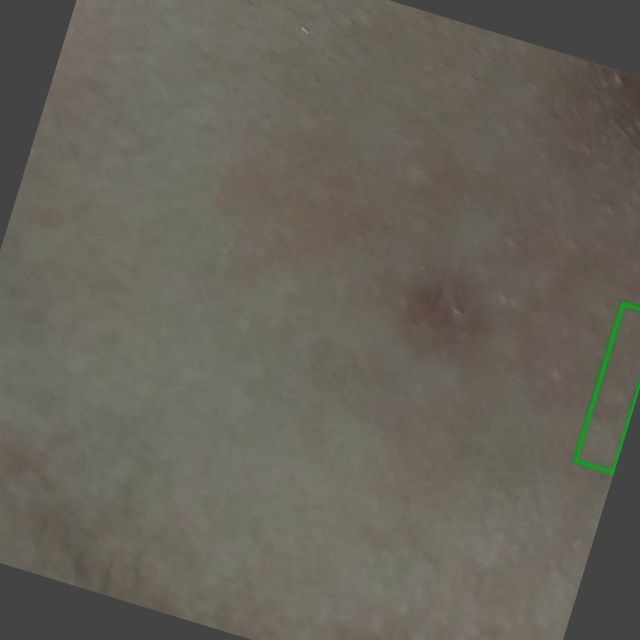Atopic Dermatitis: (575, 304, 639, 472)
